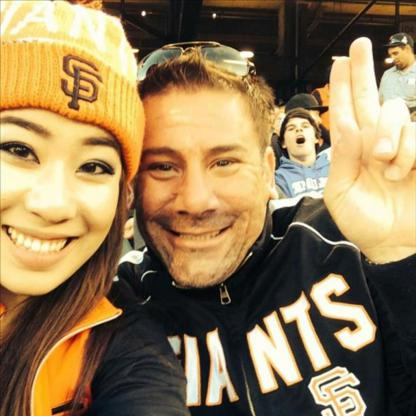face: (1, 83, 124, 296), (137, 88, 264, 289), (287, 117, 316, 157), (390, 48, 408, 69)
